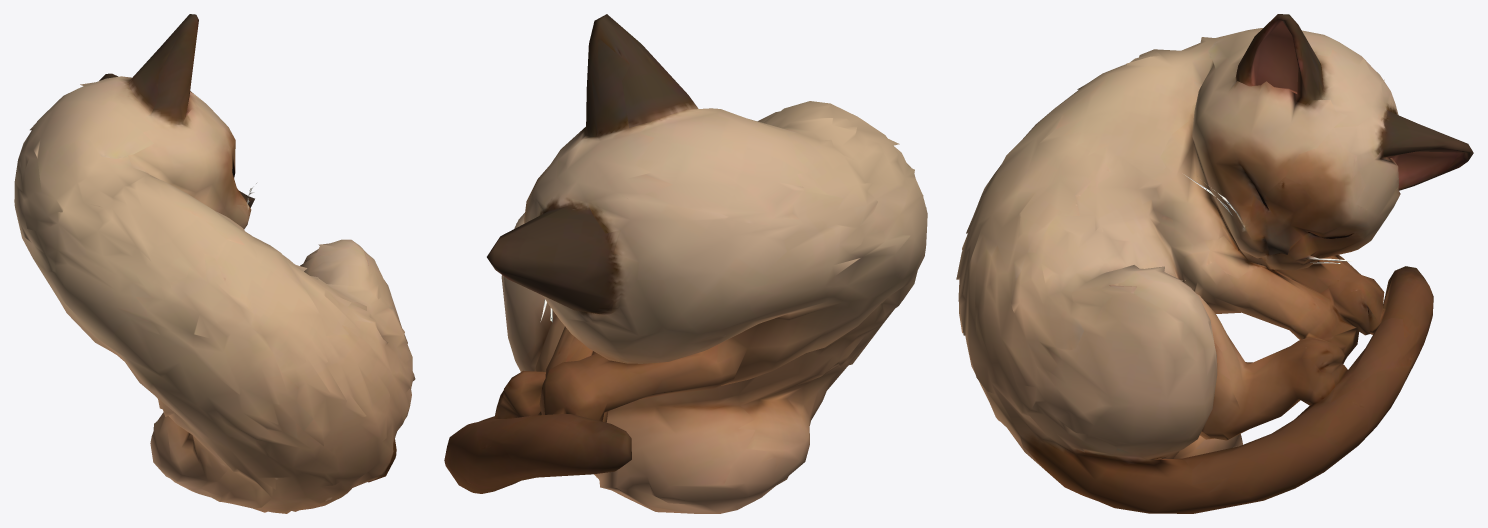
File: cat.glb
The picture shows the model from 3 angles, left to right: view 1: azimuth 30°, elevation 25°; view 2: azimuth 150°, elevation 25°; view 3: azimuth 270°, elevation 25°; orthographic projection. The views are drawn at different scales.
Parts seen in each view (by area): view 1: tripo_node_826a9897-dbb1-4152-91c0-a5369810495e; view 2: tripo_node_826a9897-dbb1-4152-91c0-a5369810495e; view 3: tripo_node_826a9897-dbb1-4152-91c0-a5369810495e.
Boxes of the visible parts, x1,y1,x2,y2 form: tripo_node_826a9897-dbb1-4152-91c0-a5369810495e: (14, 14, 415, 513); tripo_node_826a9897-dbb1-4152-91c0-a5369810495e: (444, 14, 927, 513); tripo_node_826a9897-dbb1-4152-91c0-a5369810495e: (956, 14, 1473, 513).
Size of the model in its own units: 0.274 by 0.35 by 0.3553.
Materials: 1 (1 with a texture image).
